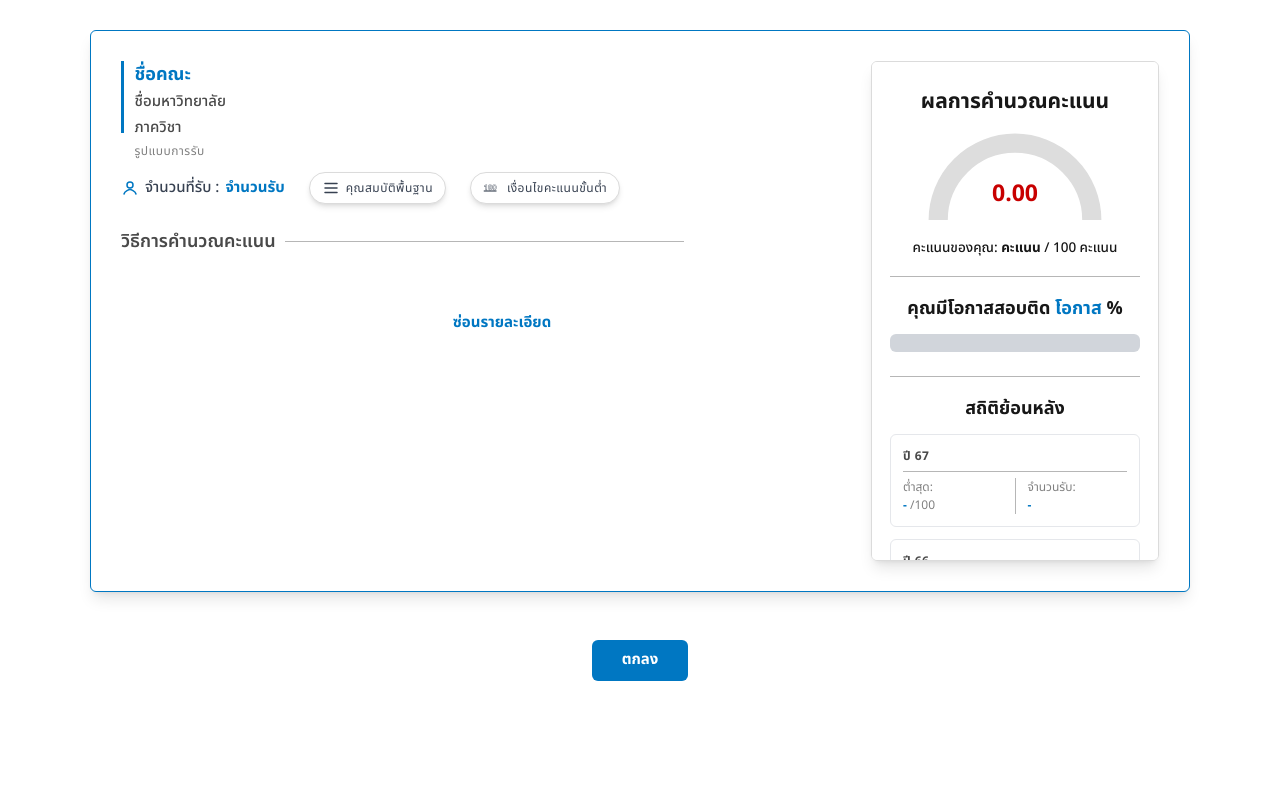
Test case: ResultCalculator Component › shows delete button when details are hidden
This screenshot has width=1280, height=800.
Note: Hide details first
What coordinates should you click on to do the following:
click the button "ซ่อนรายละเอียด"
I would click on:
 (502, 323)
Its box is [423,303,581,344].
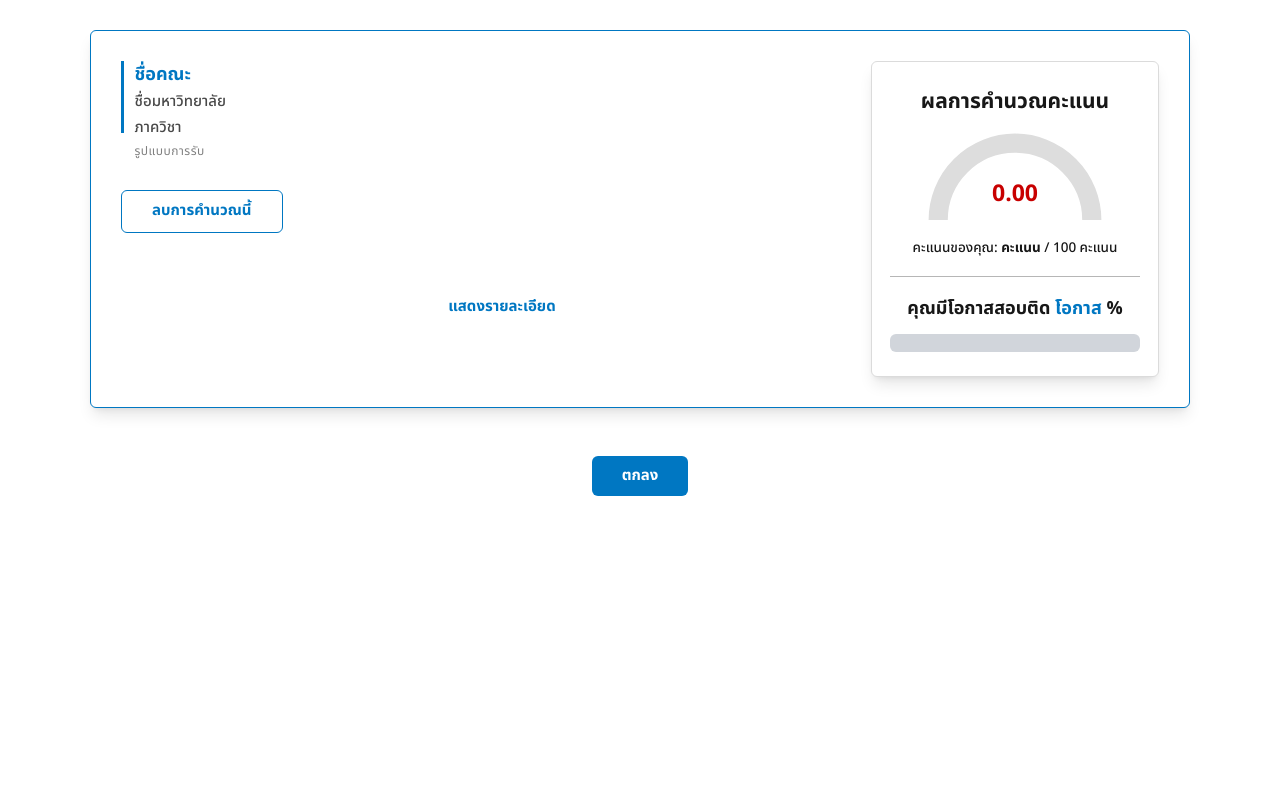
Expected: the button "ลบการคำนวณนี้" is shown, [121,190,282,232]
